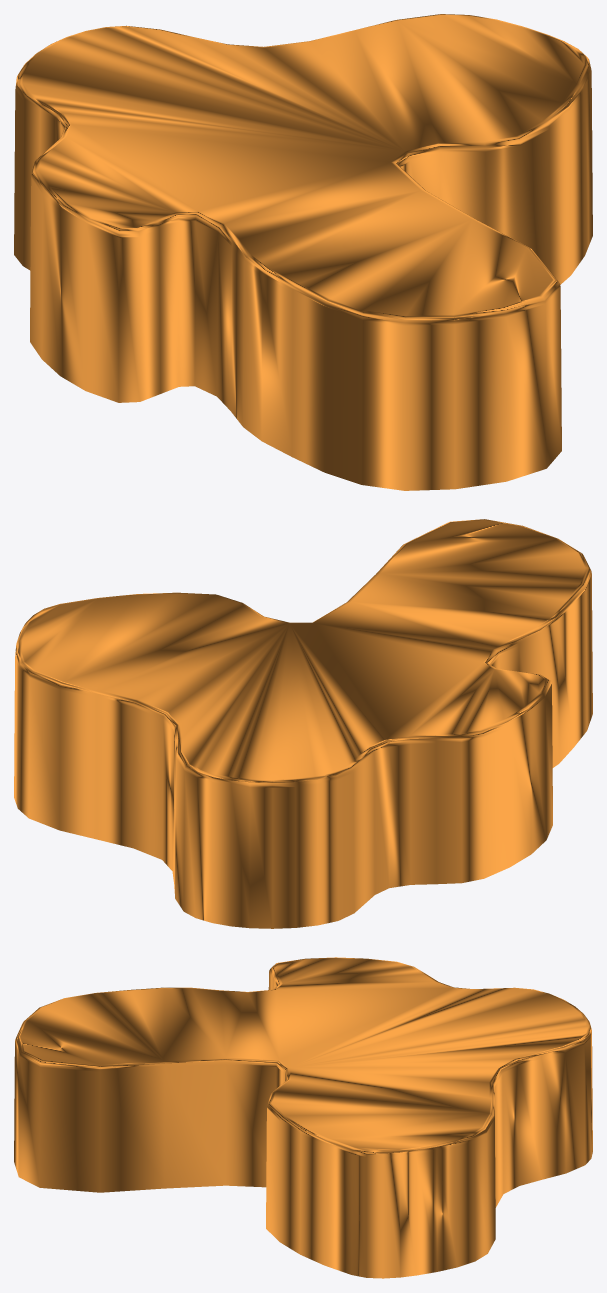
The model's file is lorville_noflyzone_suburb_redout_05.glb.
3 views of the same model, one above another, from view 1: azimuth 30°, elevation 25°; view 2: azimuth 150°, elevation 25°; view 3: azimuth 270°, elevation 25° (orthographic). The views are drawn at different scales.
Size of the model in its own units: 5382 by 1590 by 6658.
